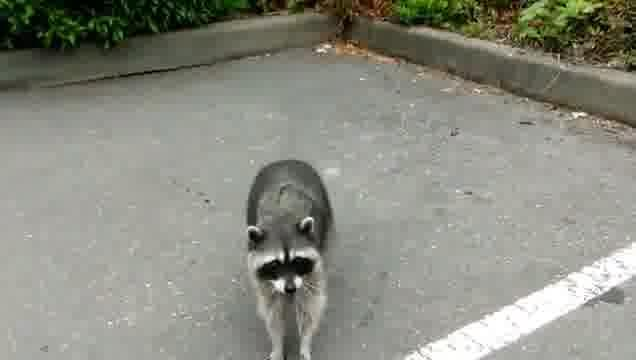raccoon: (244, 159, 335, 360)
